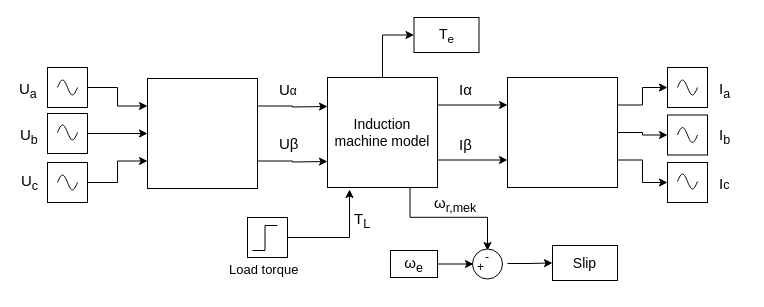
This 764x307 diagram has some shape labels left out. The shapes that lost their labels are listed below. From the top down, each one's centre as x and y in pixels, then its label:
At point 202,133: "Clarke's transformation abc -> α β".
At point 562,132: "Inverse Clarke's transformation α β --> abc".
